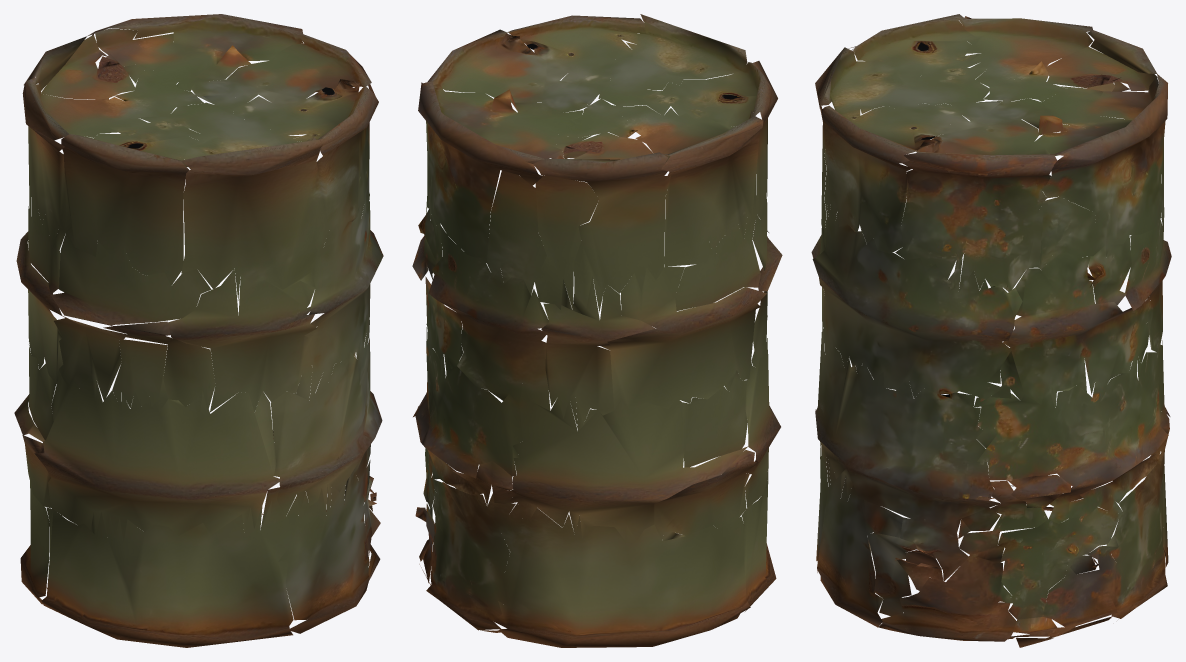
File: steel-drum.glb
3 renders of one model, left to right at view 1: azimuth 30°, elevation 25°; view 2: azimuth 150°, elevation 25°; view 3: azimuth 270°, elevation 25°, orthographic.
Visible parts, largest first — view 1: steel_drum; view 2: steel_drum; view 3: steel_drum.
Part boxes in pixels (<box>): steel_drum: <box>14,14,383,647</box>; steel_drum: <box>412,14,782,647</box>; steel_drum: <box>811,14,1171,647</box>.
Size of the model in its own units: 0.6162 by 0.9003 by 0.5957.
1 material, 1 textured.
